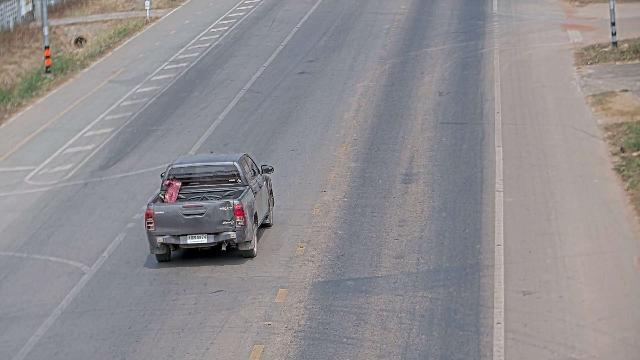pickup-truck: (143, 151, 275, 262)
